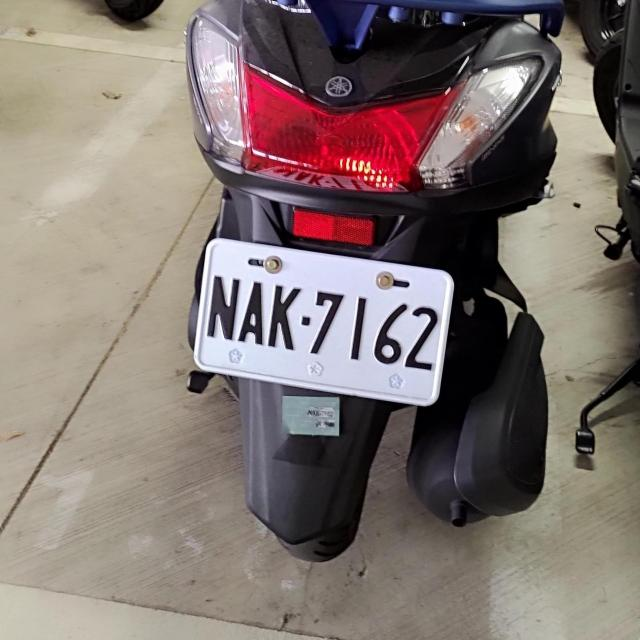W: (186, 234, 459, 406)
